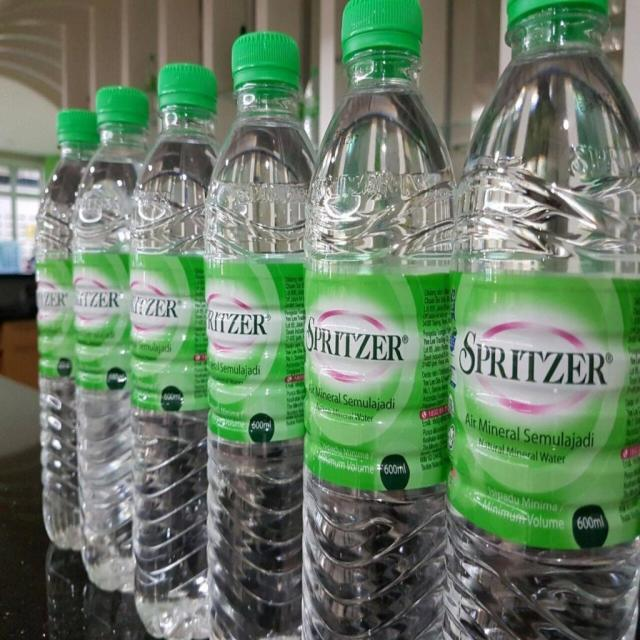plastic: (448, 0, 640, 640), (36, 63, 215, 640), (304, 0, 448, 640), (208, 30, 304, 640)
